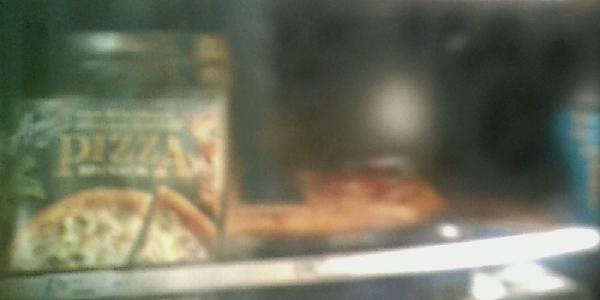pizza1: (1, 83, 225, 267), (227, 139, 468, 244)
pizza2: (62, 30, 229, 57)
